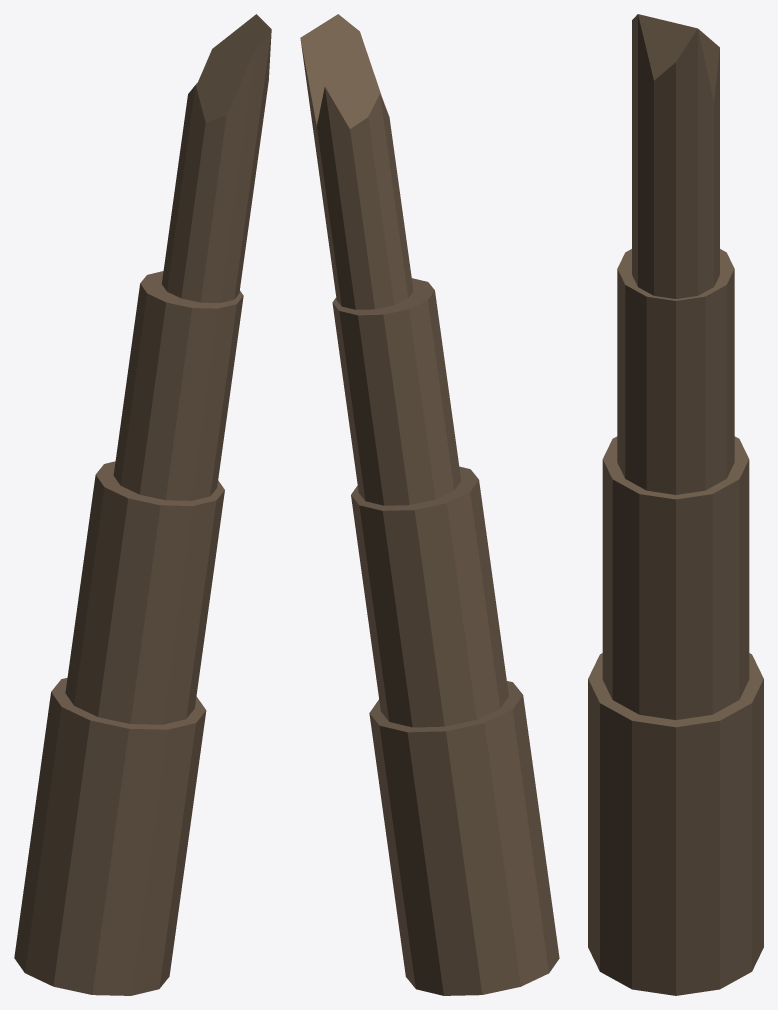
The picture shows the model from 3 angles, left to right: view 1: azimuth 30°, elevation 25°; view 2: azimuth 150°, elevation 25°; view 3: azimuth 270°, elevation 25°; orthographic projection. The views are drawn at different scales.
Parts seen in each view (by area): view 1: DeadTrunk; view 2: DeadTrunk; view 3: DeadTrunk.
Boxes of the visible parts, <box> form: DeadTrunk: <box>14,14,271,995</box>; DeadTrunk: <box>300,14,559,995</box>; DeadTrunk: <box>588,14,763,995</box>.
Size of the model in its own units: 257 by 935 by 144.
